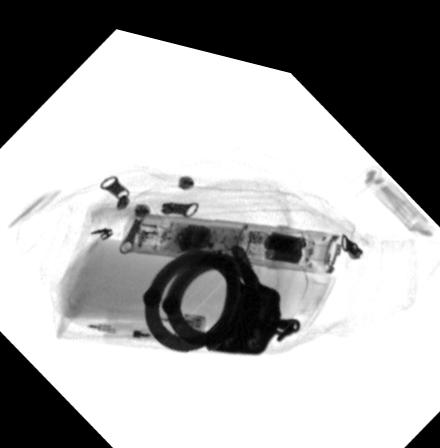Baton: (120, 202, 343, 259)
HandCuffs: (138, 231, 303, 342)
Lighter: (101, 299, 207, 336)
